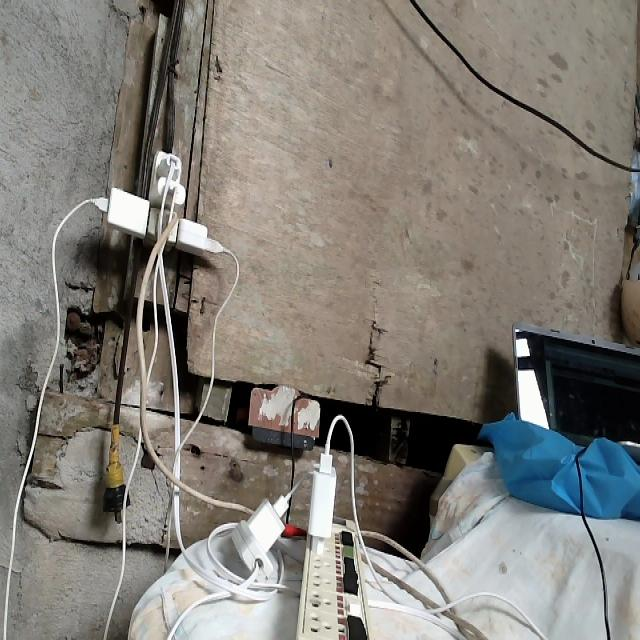-: (87, 146, 227, 255)
